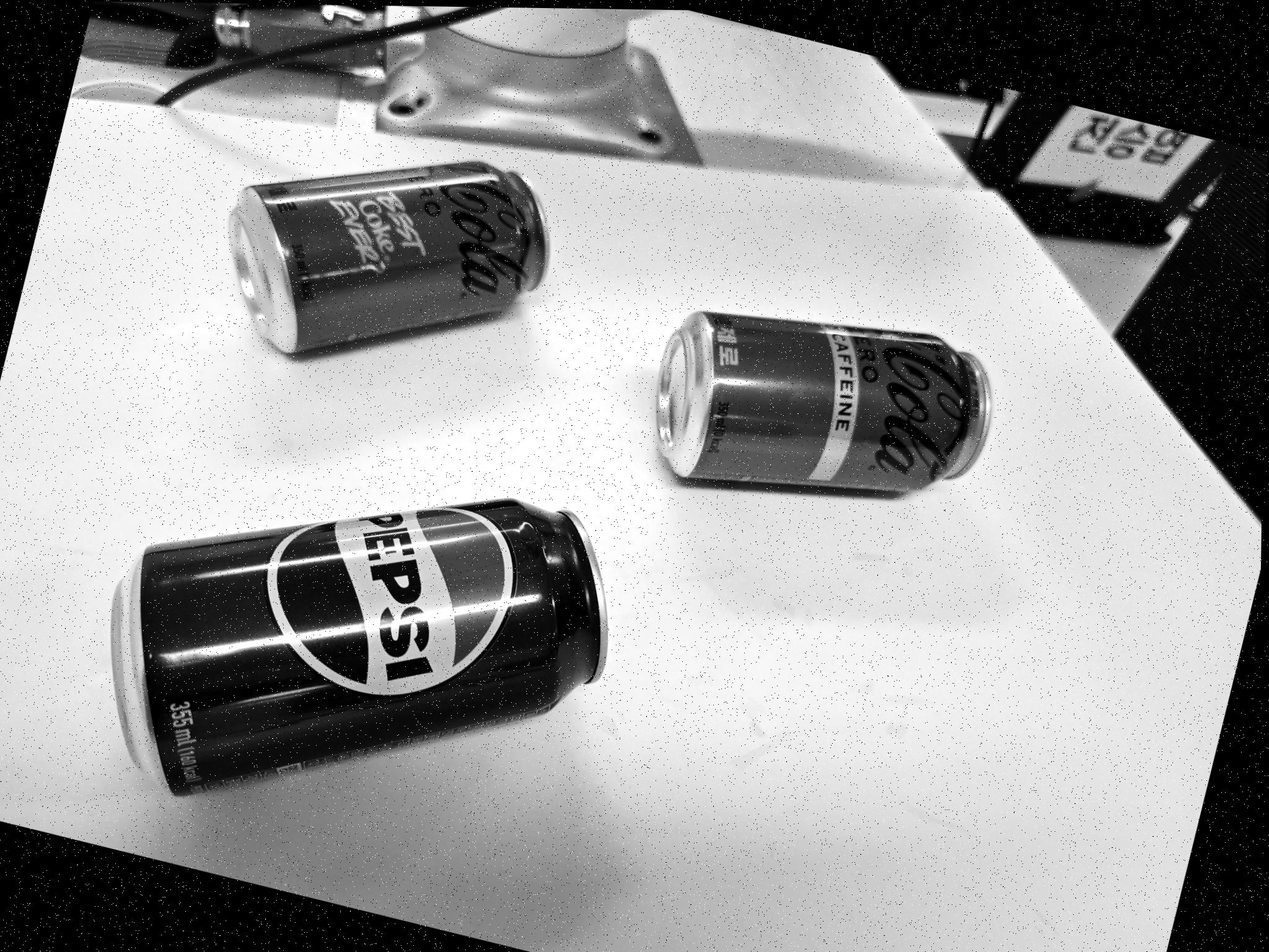can_coke_decaf: (655, 311, 990, 491)
can_coke_zero: (229, 161, 548, 353)
can_pepsi: (88, 500, 614, 796)
